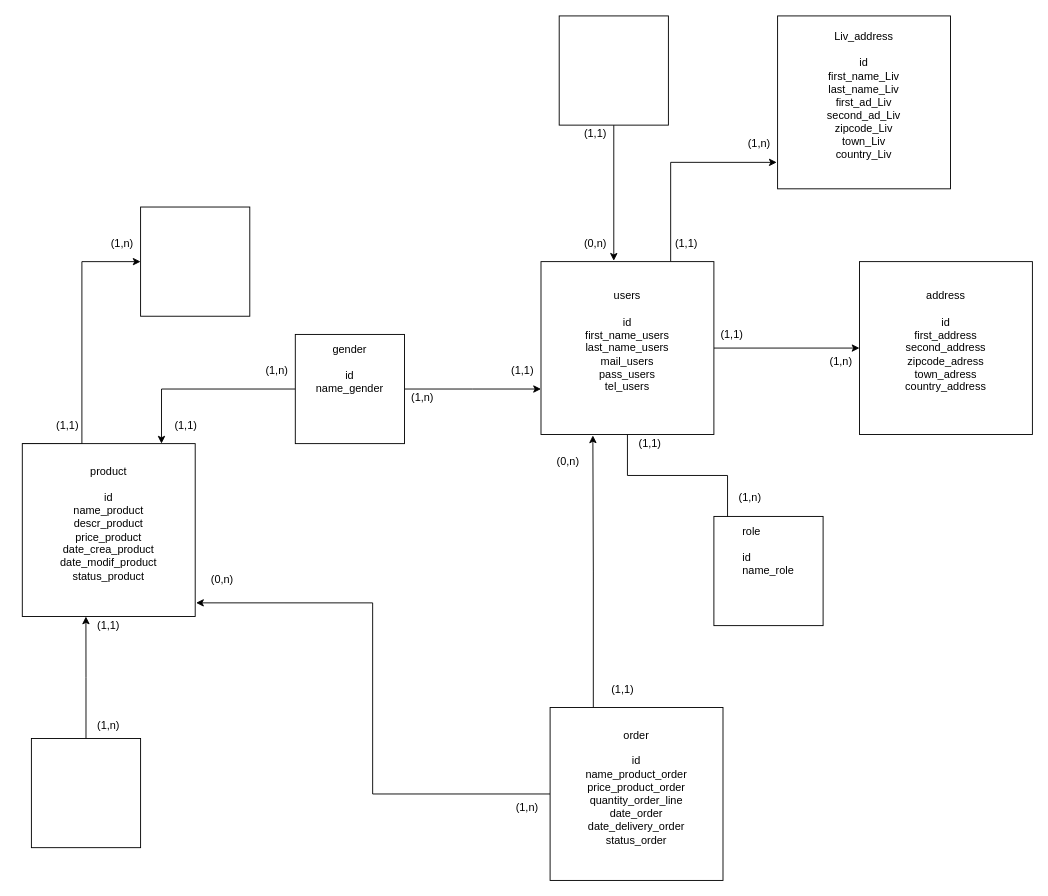
This 1048x896 diagram has some shape labels left out. Each missing label, with the centre of its shape:
"category id name_category" goes at pixel 195 261.
"provider id society_provider" goes at pixel 613 70.
"stock id Qté" goes at pixel 85 793.
